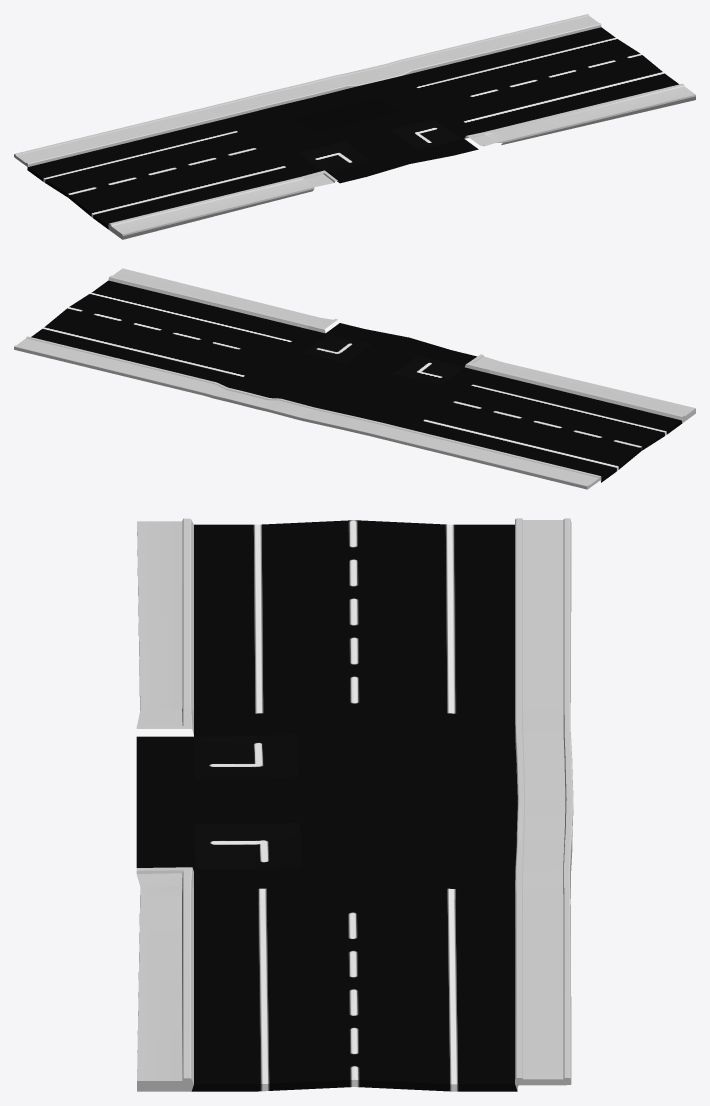
File: roadT.fbx
3 renders of one model, top to bottom at view 1: azimuth 30°, elevation 25°; view 2: azimuth 150°, elevation 25°; view 3: azimuth 270°, elevation 25°, orthographic. The views are drawn at different scales.
Visible parts, largest first — view 1: pCube4; view 2: pCube4; view 3: pCube4.
Boxes of the visible parts, x1=… form: pCube4: x1=14, y1=14, x2=695, y2=239; pCube4: x1=14, y1=268, x2=695, y2=489; pCube4: x1=136, y1=518, x2=573, y2=1091.
Bounding box in the file's own units: 133 × 1.58 × 43.89.
1 material, 1 textured.
